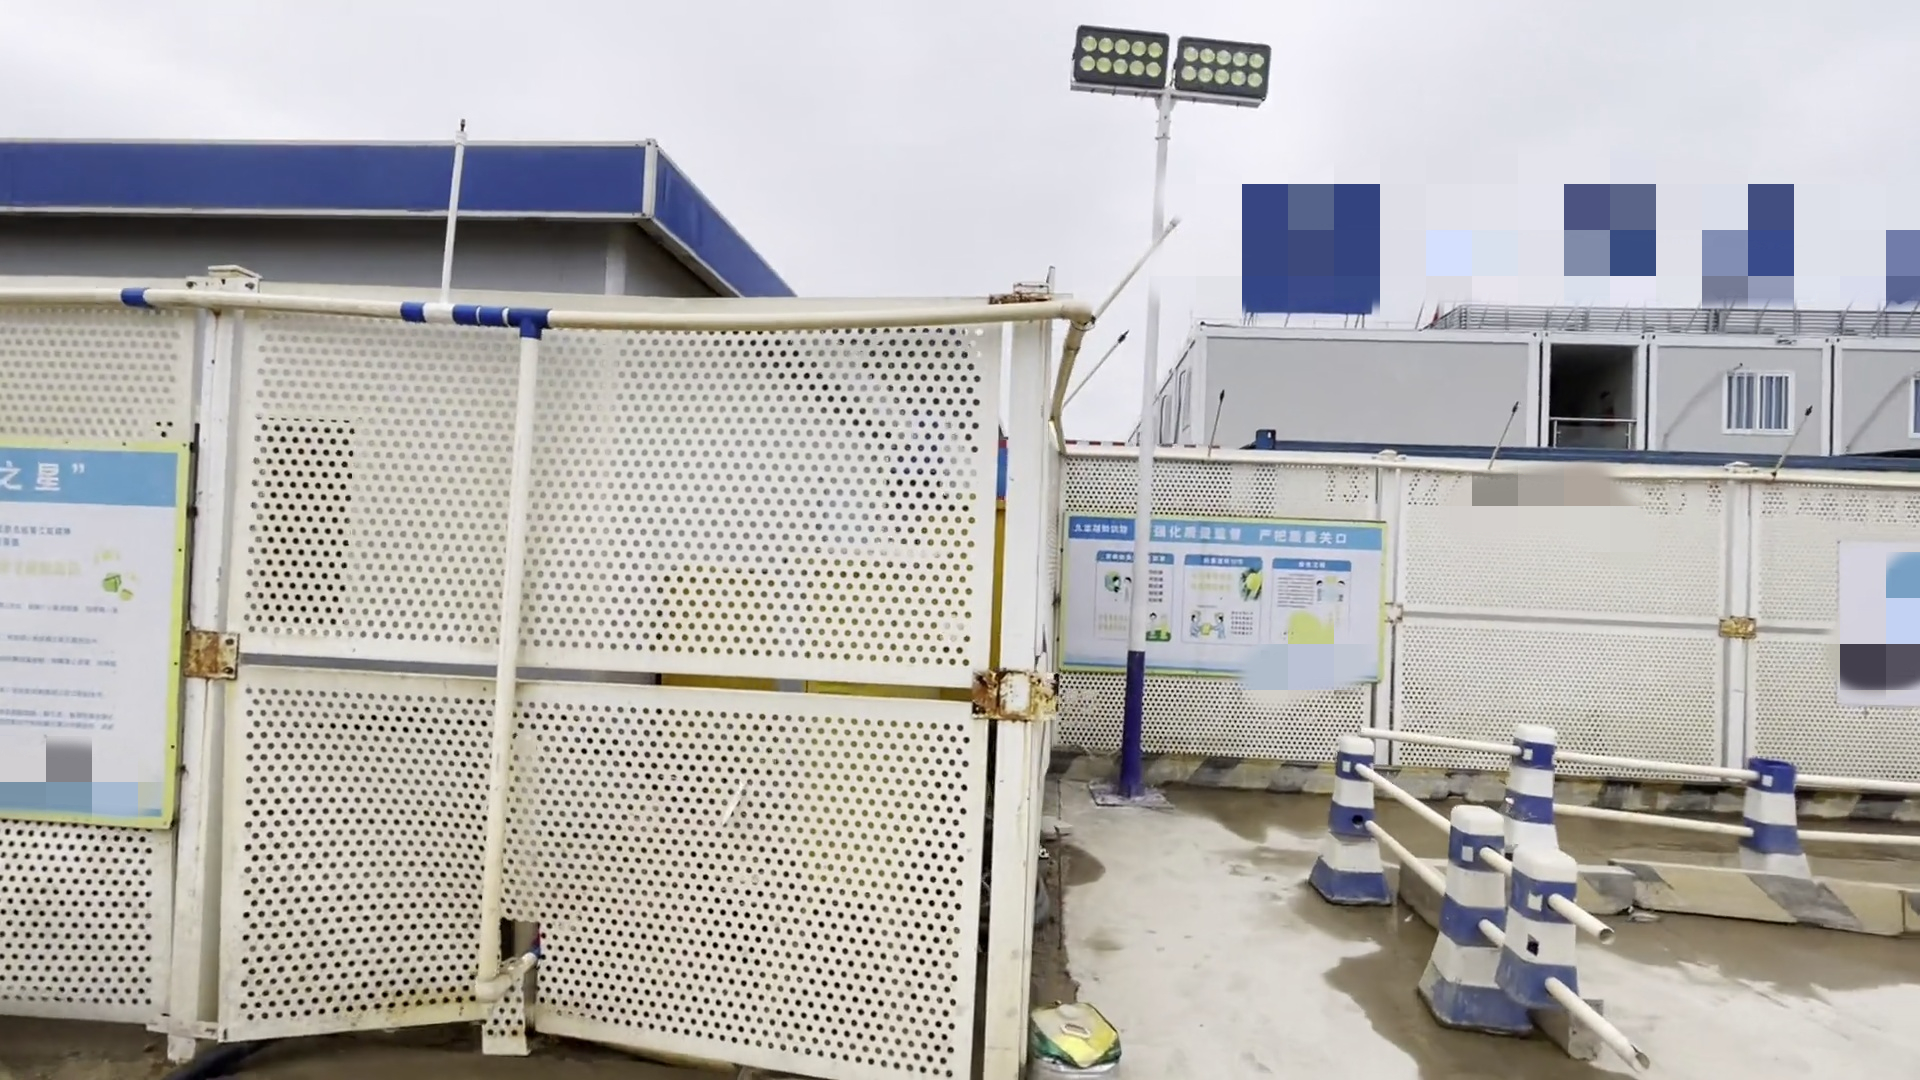slogan: (1039, 506, 1418, 698)
